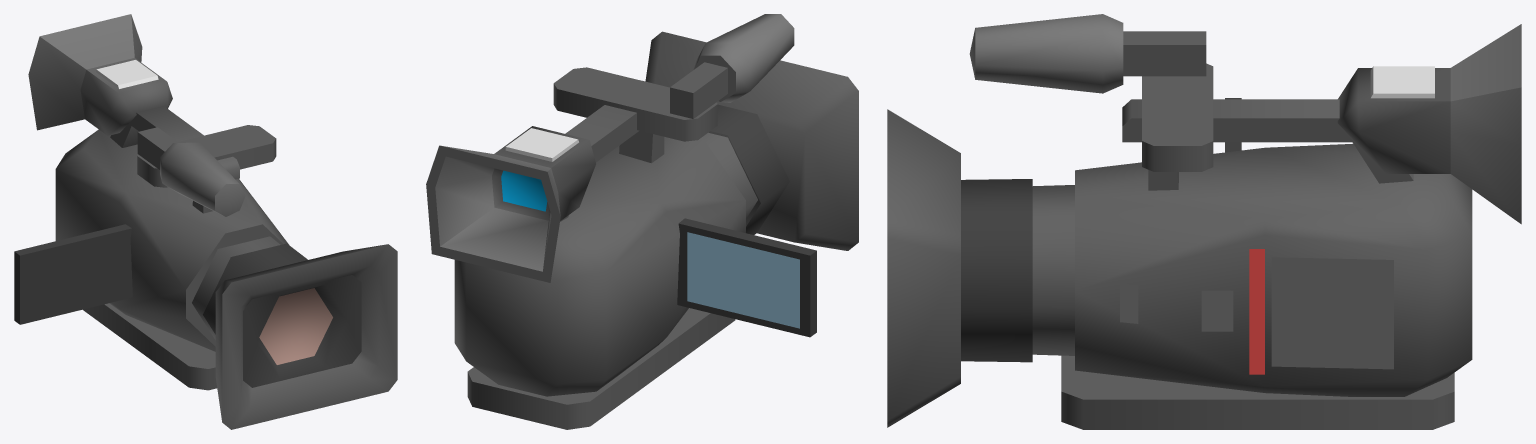
File: electronics_016.glb
The picture shows the model from 3 angles, left to right: view 1: azimuth 30°, elevation 25°; view 2: azimuth 150°, elevation 25°; view 3: azimuth 270°, elevation 25°; orthographic projection. The views are drawn at different scales.
Parts seen in each view (by area): view 1: electronics_016; view 2: electronics_016; view 3: electronics_016.
Part boxes in pixels (box(x1,y1,x2,y2)): electronics_016: box(14, 14, 397, 429); electronics_016: box(426, 14, 858, 429); electronics_016: box(887, 14, 1521, 429).
Size of the model in its own units: 0.2088 by 0.1852 by 0.3114.
1 material, 1 textured.
